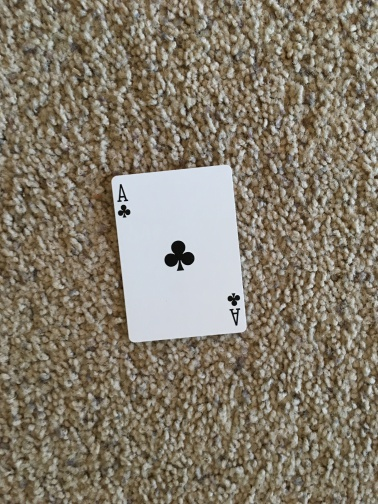ace: (109, 165, 251, 344)
